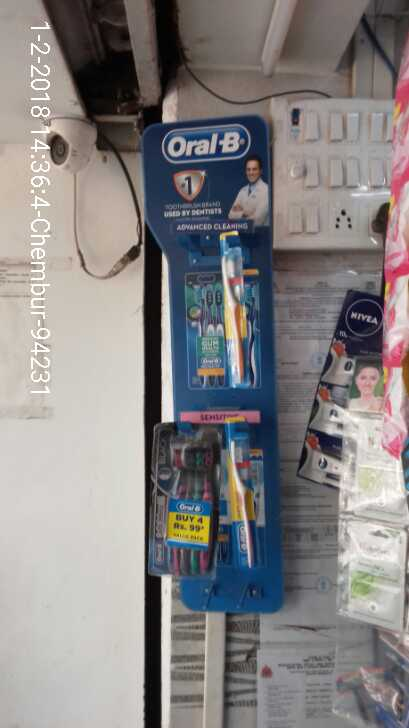oralb: (216, 230, 253, 386), (226, 417, 263, 568)
